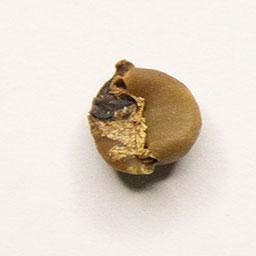defect: (85, 57, 205, 179)
